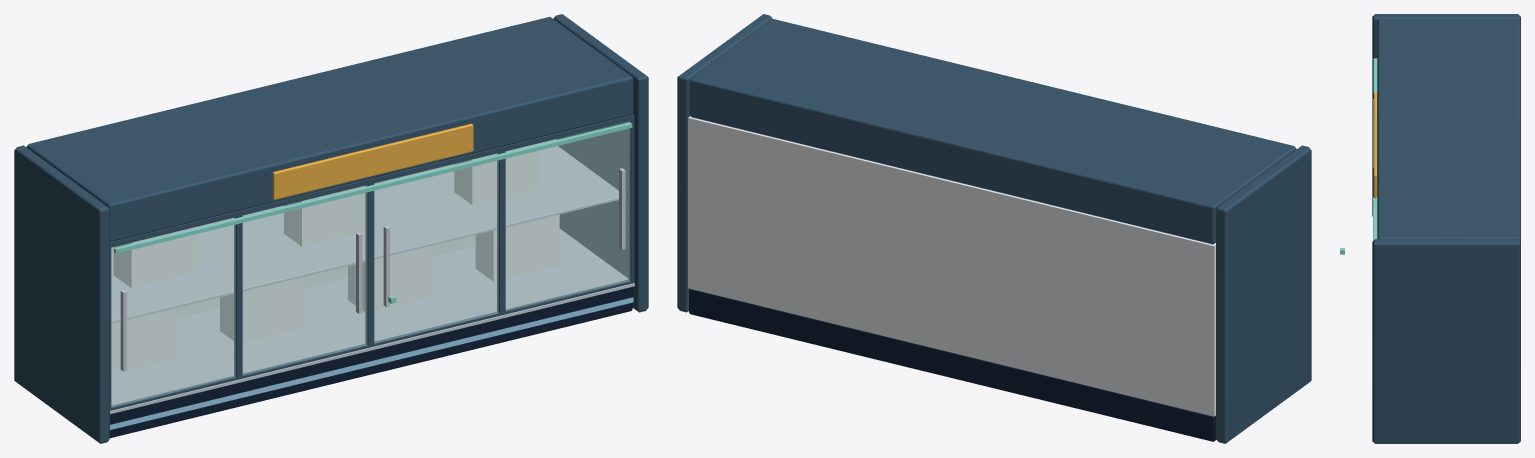
The model's file is CM_Fixture_DairyFridge_Far.fbx.
3 views of the same model, side by side, from view 1: azimuth 30°, elevation 25°; view 2: azimuth 150°, elevation 25°; view 3: azimuth 270°, elevation 25° (orthographic). The views are drawn at different scales.
Visible parts, largest first — view 1: Body, Glass; view 2: Body; view 3: Body.
Part boxes in pixels (x1=…): Body: x1=14, y1=14, x2=648, y2=443; Glass: x1=111, y1=121, x2=630, y2=407; Body: x1=677, y1=14, x2=1311, y2=443; Body: x1=1372, y1=14, x2=1520, y2=443.
Size of the model in its own units: 22 by 7.3 by 9.
Materials: 2 (2 with a texture image).
